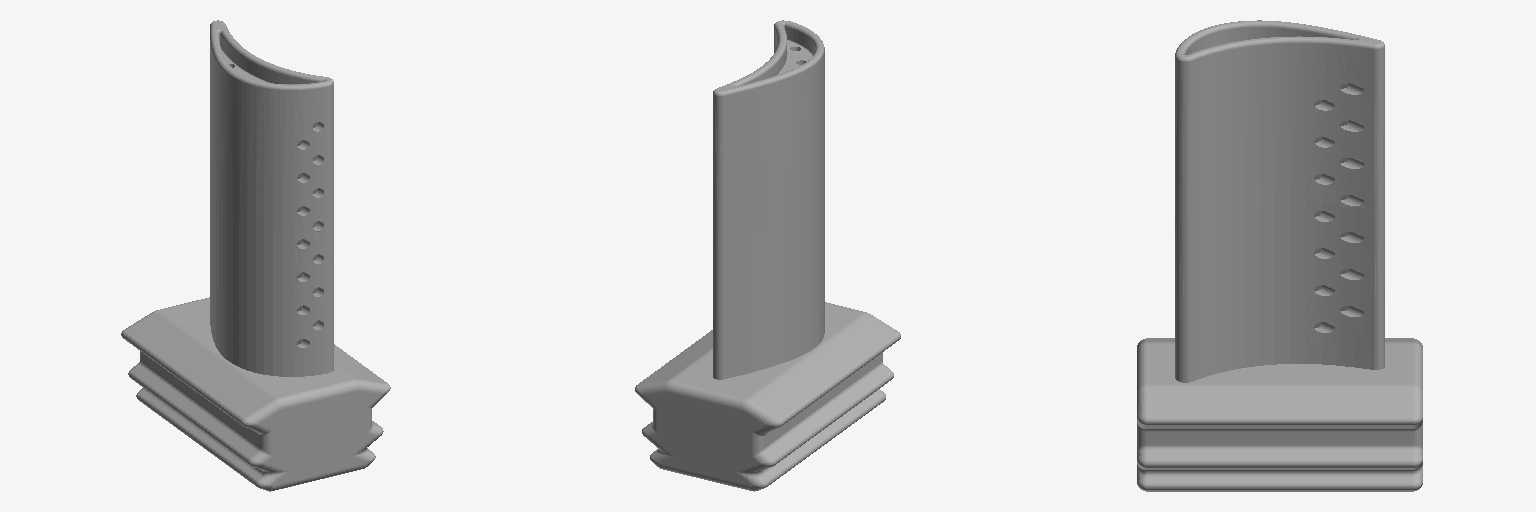
robot.urdf — myobj:
<robot name="myobj">
  <link name="tray_base_link">
    <contact>
      <lateral_friction value="0.5"/>
      <rolling_friction value="0.0"/>
      <contact_cfm value="0.0"/>
      <contact_erp value="1.0"/>
    </contact>
    <inertial>
      <origin rpy="0 0 0" xyz="0 0 0"/>
      <mass value="0"/>
      <inertia ixx="0" ixy="0" ixz="0" iyy="0" iyz="0" izz="0"/>
    </inertial>
    <visual>
      <origin rpy="0 0 0" xyz="0 0 0"/>
      <geometry>
        <mesh filename="../mould/blade1.obj" scale="0.01 0.01 0.01"/>
      </geometry>
      <material name="tray_material">
        <color rgba="0.7 0.7 0.7 1"/>
      </material>
    </visual>
    <collision>
      <origin rpy="0 0 0" xyz="0 0 0"/>
      <geometry>
        <mesh filename="../mould/blade1.obj" scale="0.01 0.01 0.01"/>
      </geometry>
    </collision>
  </link>
</robot>

--- What the picture shows (computed from the rendered views, not written in the file) ---
The picture shows the robot from 3 angles, left to right: view 1: azimuth 30°, elevation 25°; view 2: azimuth 150°, elevation 25°; view 3: azimuth 270°, elevation 25°; orthographic projection.
Robot: myobj — 1 links, 0 joints (none); root link tray_base_link; default pose: every joint at zero.
Links seen in each view (by area): view 1: tray_base_link; view 2: tray_base_link; view 3: tray_base_link.
Link boxes in pixels (x1,y1,x2,y2): tray_base_link: (121,20,390,491); tray_base_link: (635,20,900,491); tray_base_link: (1137,20,1422,491).
Bounding box of the posed robot: 0.1879 × 0.28 × 0.46 m (x, y, z).
1 mesh visuals loaded from 1 distinct referenced files (1 OBJ).